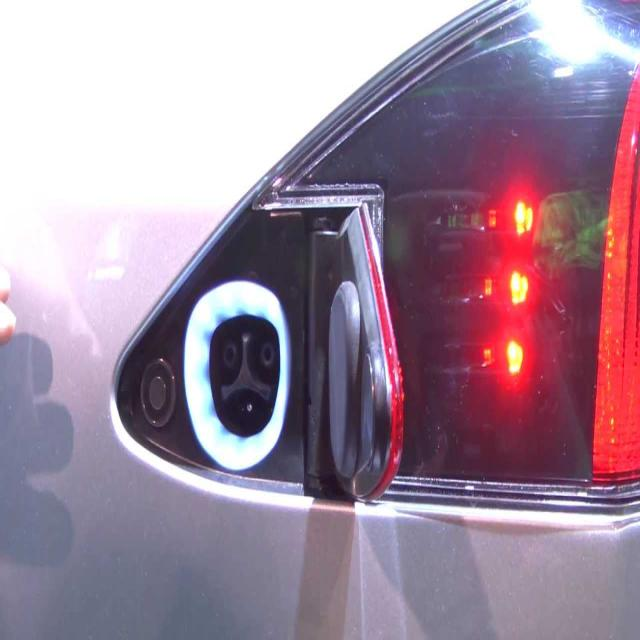Tesla Model-S-: (165, 256, 313, 499)
